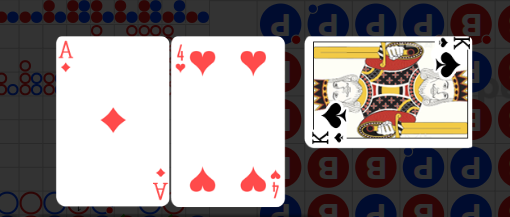4H: (269, 168, 282, 199)
AD: (150, 165, 167, 201)
